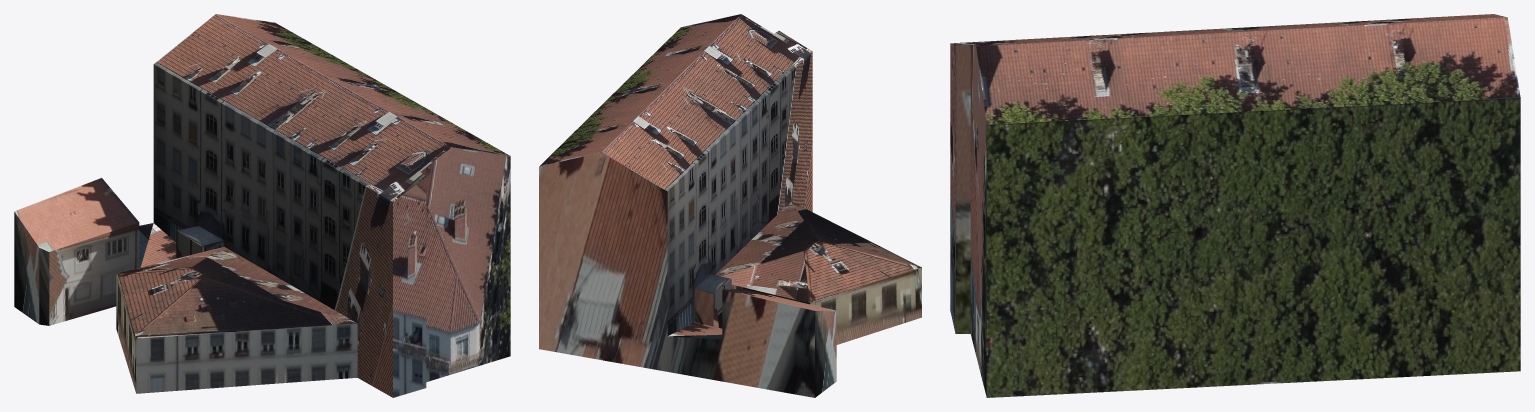
3 renders of one model, left to right at view 1: azimuth 30°, elevation 25°; view 2: azimuth 150°, elevation 25°; view 3: azimuth 270°, elevation 25°, orthographic. The views are drawn at different scales.
Visible parts, largest first — view 1: Z_UP; view 2: Z_UP; view 3: Z_UP.
Part boxes in pixels (x1=…): Z_UP: x1=14, y1=14, x2=510, y2=397; Z_UP: x1=539, y1=14, x2=921, y2=397; Z_UP: x1=950, y1=14, x2=1520, y2=397.
Bounding box in the file's own units: 32.09 × 21.72 × 36.07.
Materials: 2 (1 with a texture image).
